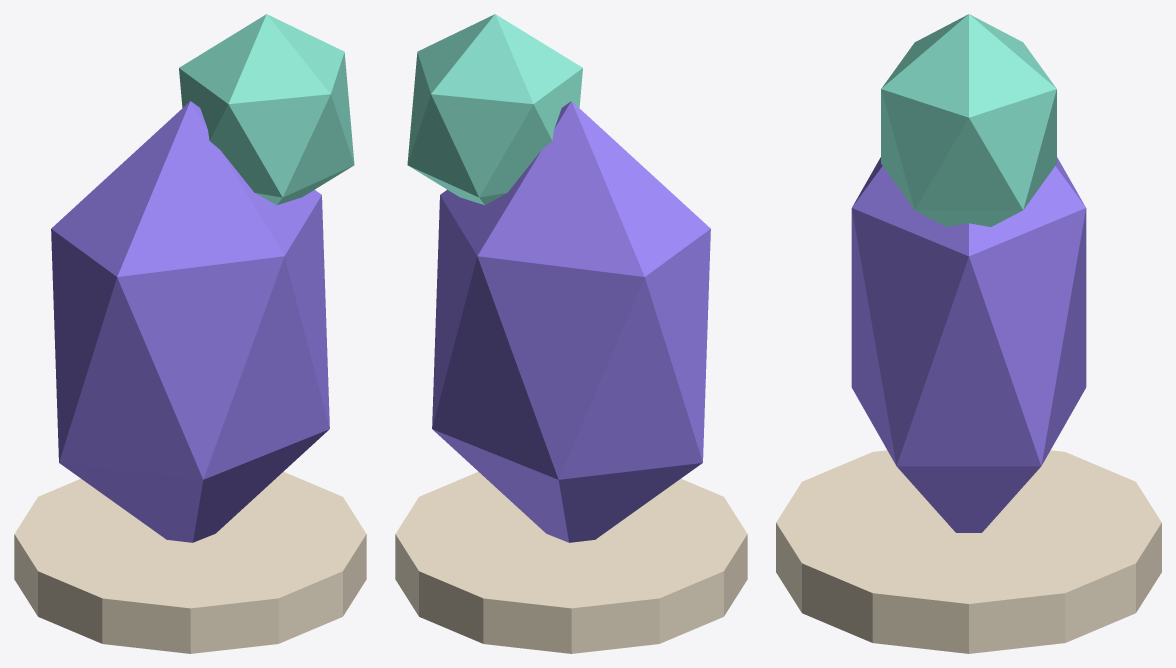
The picture shows the model from 3 angles, left to right: view 1: azimuth 30°, elevation 25°; view 2: azimuth 150°, elevation 25°; view 3: azimuth 270°, elevation 25°; orthographic projection. The views are drawn at different scales.
Visible parts, largest first — view 1: Sculpture, Plinth, Crown; view 2: Sculpture, Plinth, Crown; view 3: Sculpture, Plinth, Crown.
Boxes of the visible parts, x1=… form: Sculpture: x1=51, y1=101, x2=329, y2=542; Plinth: x1=14, y1=472, x2=366, y2=653; Crown: x1=179, y1=14, x2=354, y2=204; Sculpture: x1=432, y1=101, x2=710, y2=542; Plinth: x1=395, y1=472, x2=747, y2=653; Crown: x1=407, y1=14, x2=582, y2=204; Sculpture: x1=851, y1=157, x2=1086, y2=532; Plinth: x1=776, y1=450, x2=1161, y2=653; Crown: x1=881, y1=14, x2=1056, y2=226.
Bounding box in the file's own units: 0.5631 × 0.96 × 0.56.
1 material, 1 textured.
